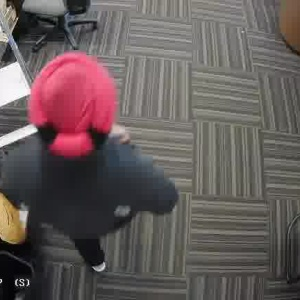person: (8, 55, 152, 243)
